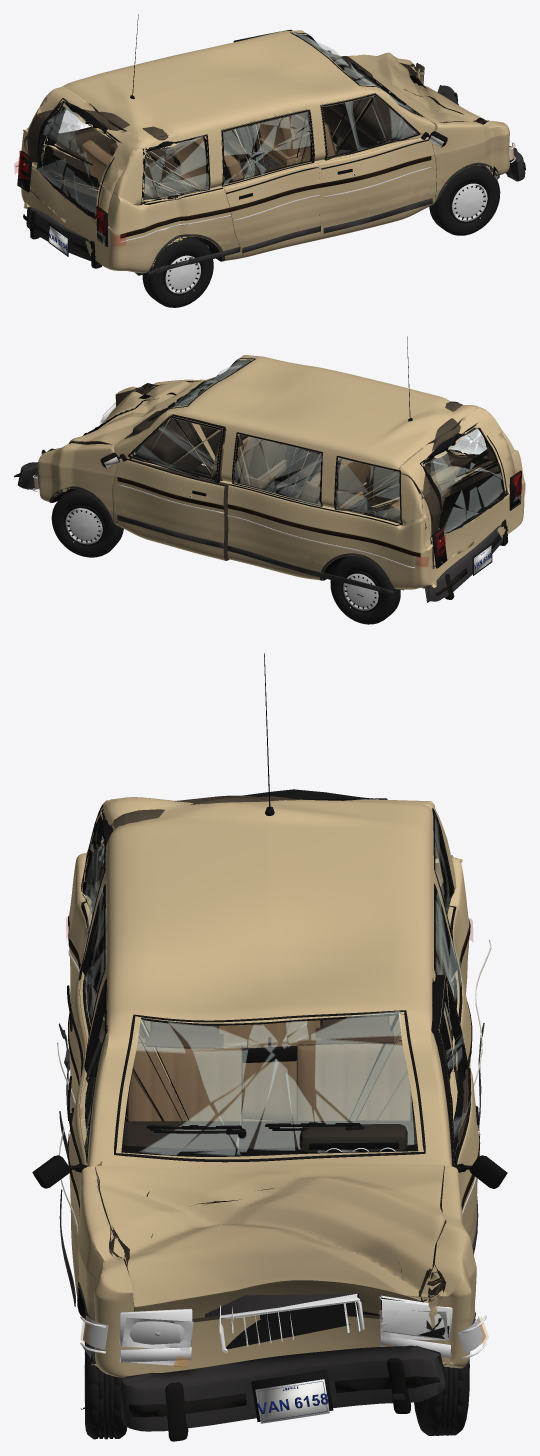
File: minivan86_front_d1_lod1.glb
3 renders of one model, top to bottom at view 1: azimuth 30°, elevation 25°; view 2: azimuth 150°, elevation 25°; view 3: azimuth 270°, elevation 25°, orthographic. The views are drawn at different scales.
Visible parts, largest first — view 1: Body, Interior, Door_FR, Door_SR, Liftgate, Wheel_FR_mesh, Glass, Glass_Liftgate, Wheel_RR_mesh, Hood, Trim, Trim_FR (+8 smaller); view 2: Body, Door_FL, Interior, Glass, Trim, Liftgate, Wheel_FL_mesh, Wheel_RL_mesh, Glass_Liftgate, Hood, Trim_FL, Bumper_R (+6 smaller); view 3: Body, Hood, Interior, Glass, Ends, Bumper_F, Trim, Door_FL, Door_FR, Wheel_FR_mesh, Wheel_FL_mesh, Trim_FR (+5 smaller).
Boxes of the visible parts, x1,y1,x2,y2 form: Body: [21, 30, 509, 273]; Interior: [82, 56, 413, 197]; Door_FR: [318, 93, 436, 239]; Door_SR: [221, 109, 320, 257]; Liftgate: [27, 86, 146, 227]; Wheel_FR_mesh: [429, 165, 500, 235]; Glass: [59, 32, 424, 204]; Glass_Liftgate: [36, 98, 121, 219]; Wheel_RR_mesh: [142, 236, 213, 307]; Hood: [349, 52, 486, 123]; Trim: [15, 14, 499, 277]; Trim_FR: [319, 93, 447, 233]; Body: [38, 355, 524, 589]; Door_FL: [112, 414, 229, 560]; Interior: [132, 388, 459, 518]; Glass: [125, 358, 488, 520]; Trim: [49, 336, 420, 595]; Liftgate: [398, 407, 515, 569]; Wheel_FL_mesh: [51, 489, 123, 557]; Wheel_RL_mesh: [330, 556, 400, 624]; Glass_Liftgate: [420, 422, 508, 533]; Hood: [68, 381, 202, 444]; Trim_FL: [100, 416, 225, 548]; Bumper_R: [424, 519, 508, 602]; Body: [69, 797, 476, 1377]; Hood: [95, 1163, 446, 1318]; Interior: [122, 1015, 417, 1152]; Glass: [82, 807, 461, 1162]; Ends: [80, 1293, 486, 1423]; Bumper_F: [120, 1345, 445, 1441]; Trim: [58, 653, 491, 1369]; Door_FL: [431, 974, 479, 1254]; Door_FR: [68, 977, 107, 1295]; Wheel_FR_mesh: [80, 1309, 127, 1439]; Wheel_FL_mesh: [414, 1358, 469, 1435]; Trim_FR: [32, 978, 106, 1306].
Bounding box in the file's own units: 4.3 × 2.44 × 2.07.
Materials: 34 (5 with a texture image).
